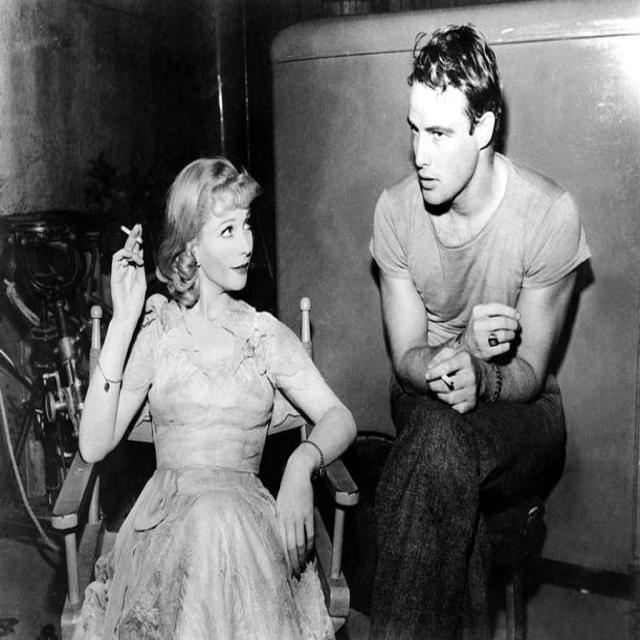smoking: (408, 26, 504, 412), (100, 155, 284, 334)
